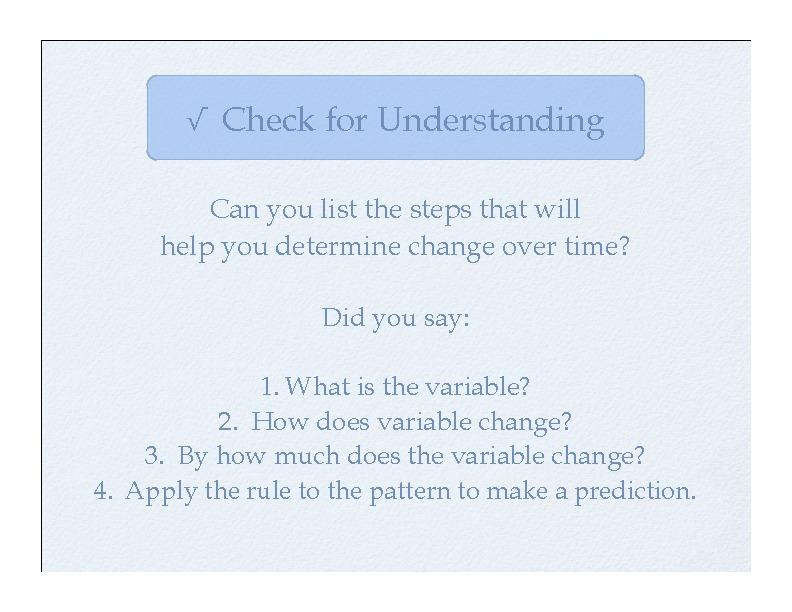paragraph: (84, 178, 723, 544)
title: (212, 96, 621, 150)
